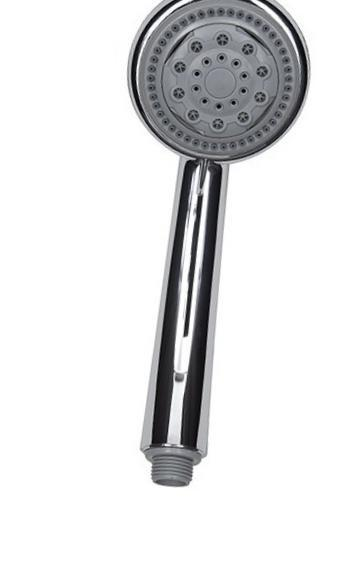Ducha: (63, 0, 321, 493)
